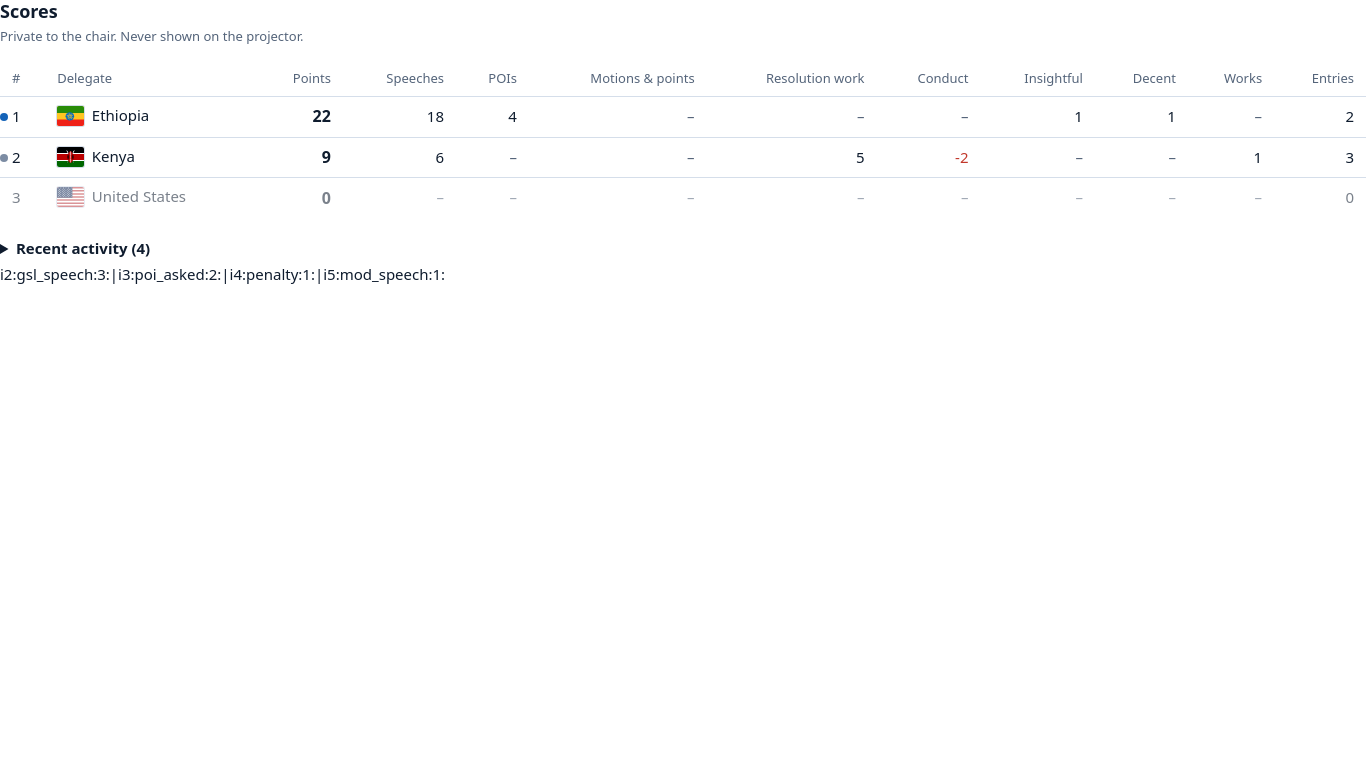
it: LeaderboardPanel › shows synthetic rows without controls and deletes real ones
The width and height of the screenshot is (1366, 768).
Click the button with aria-label "Show log for Kenya".
click(96, 158)  # box [57,146,135,169]
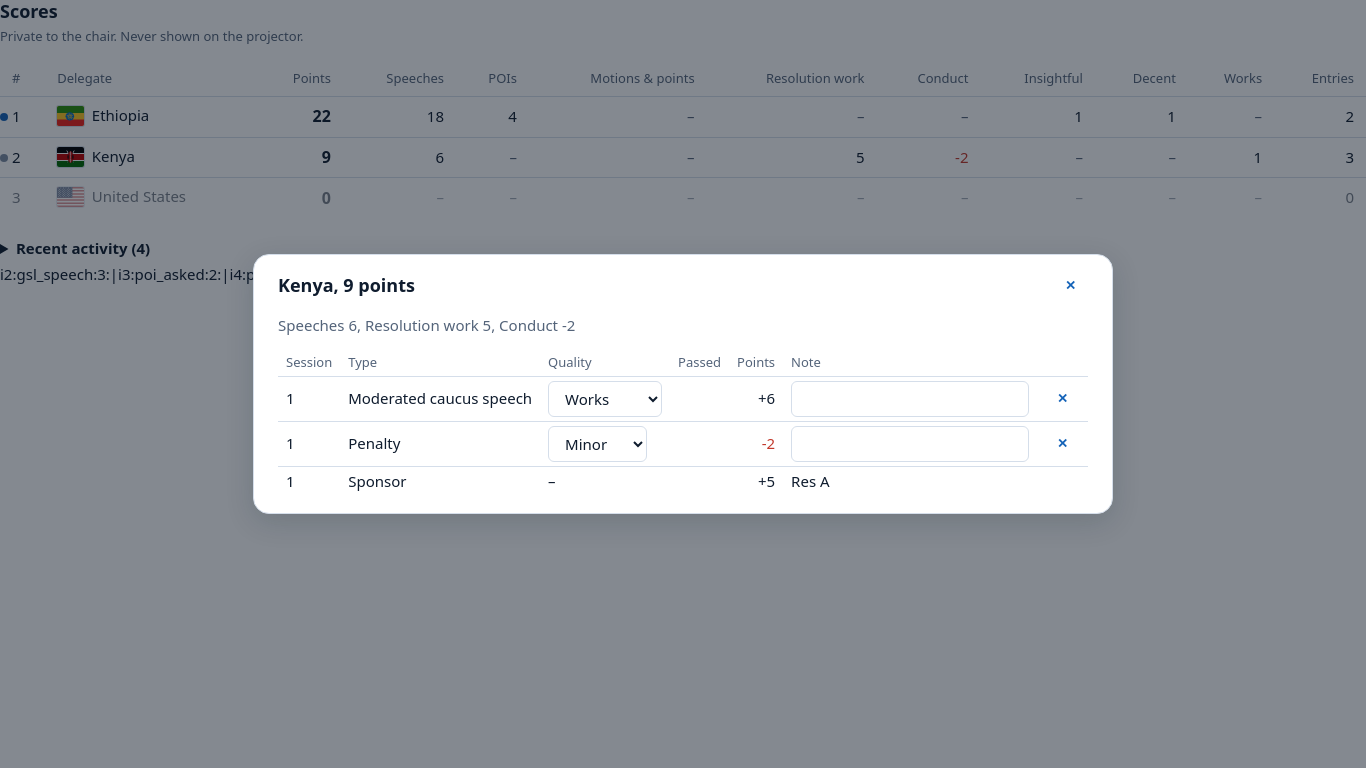
Expected: the text "Sponsor" is shown, [340,466,540,497]
Click the button named "Delete Penalty".
click(1063, 444)  # box [1045,430,1080,458]
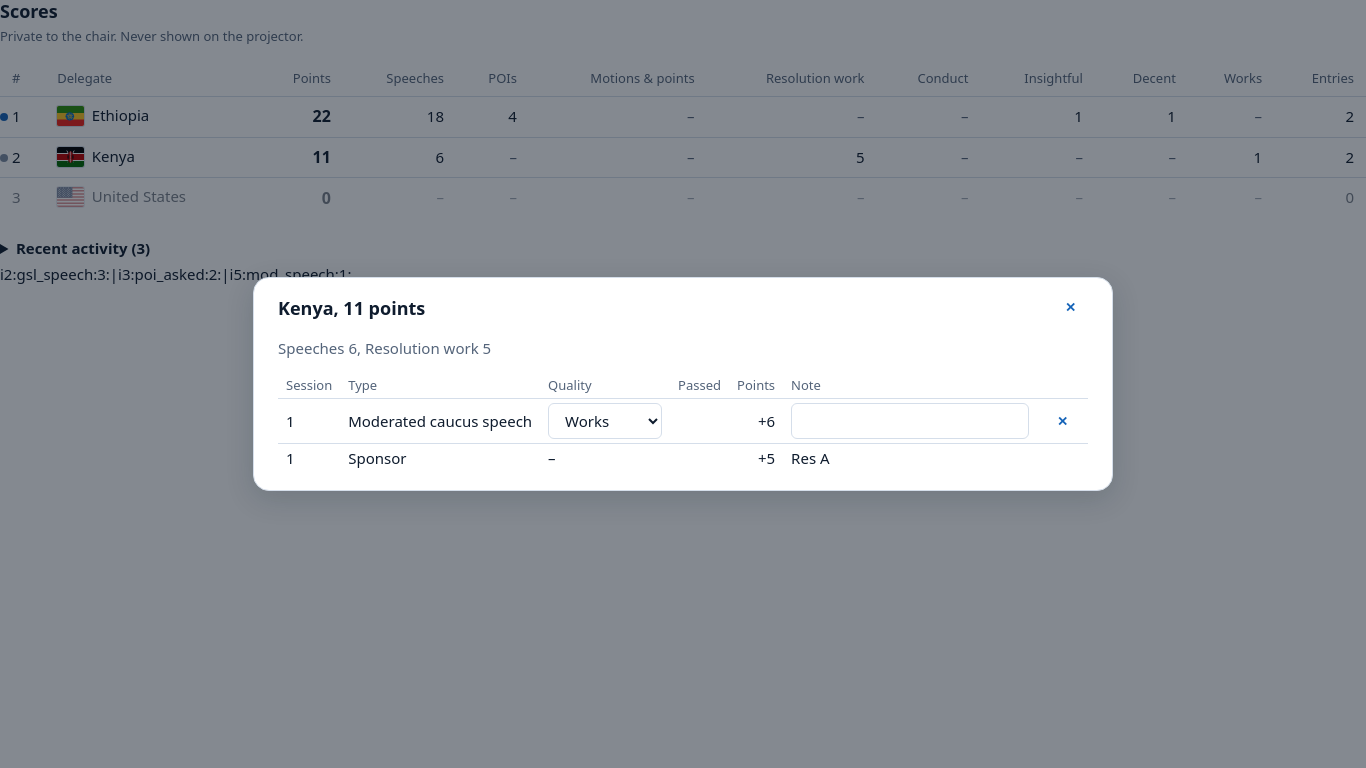
Expected: the cell with test id "probe" no longer shows "Penalty"
Expected: the dialog "Kenya, 11 points" is shown, [253,277,1113,491]
